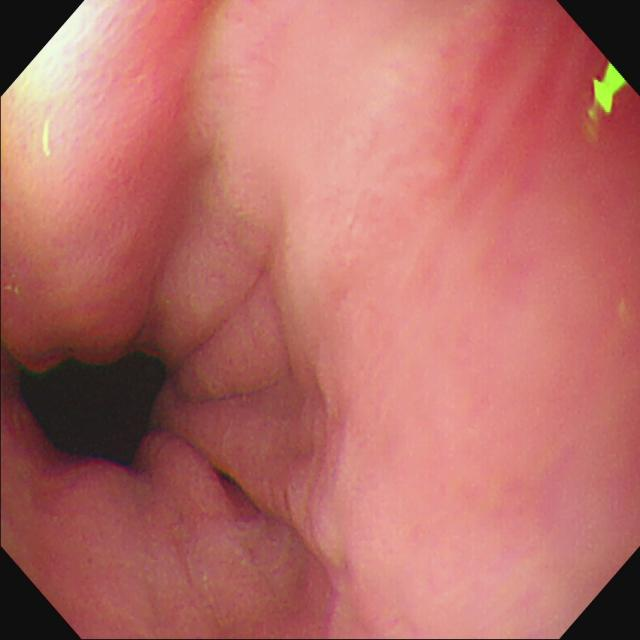E: (20, 362, 169, 466)
U: (594, 60, 629, 117)
